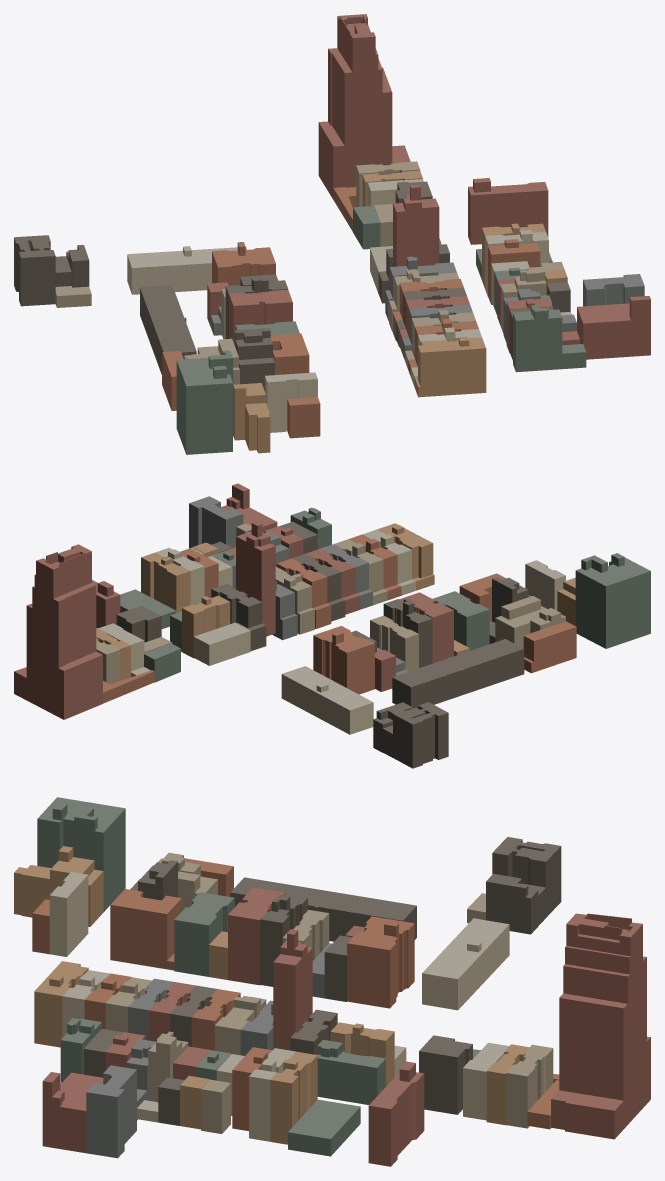
File: tile-3_5.glb
The picture shows the model from 3 angles, top to bottom: view 1: azimuth 30°, elevation 25°; view 2: azimuth 150°, elevation 25°; view 3: azimuth 270°, elevation 25°; orthographic projection. The views are drawn at different scales.
Visible parts, largest first — view 1: wall, roof; view 2: wall, roof; view 3: wall, roof.
Boxes of the visible parts, left/top/right/bottom form: wall: left=14, top=15, right=650, bottom=454; roof: left=14, top=14, right=650, bottom=417; wall: left=14, top=485, right=650, bottom=768; roof: left=14, top=483, right=650, bottom=733; wall: left=14, top=804, right=650, bottom=1166; roof: left=14, top=797, right=650, bottom=1139.
Bounding box in the file's own units: 223 × 71.34 × 211.
